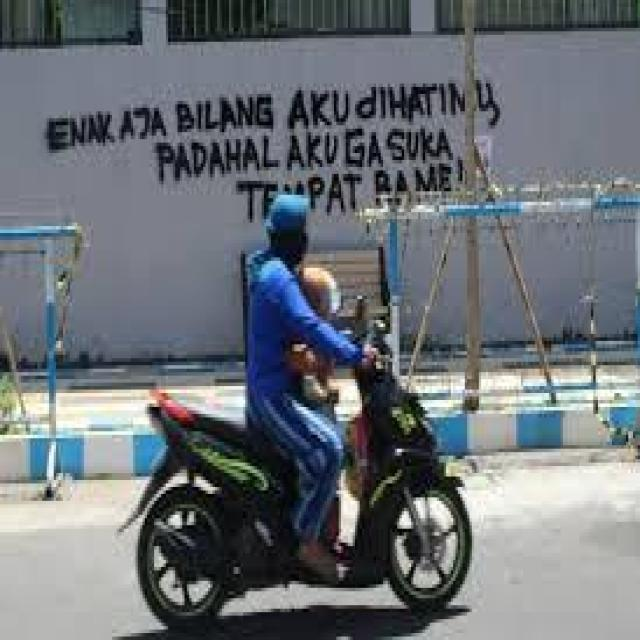nonspitting: (48, 83, 500, 221)
